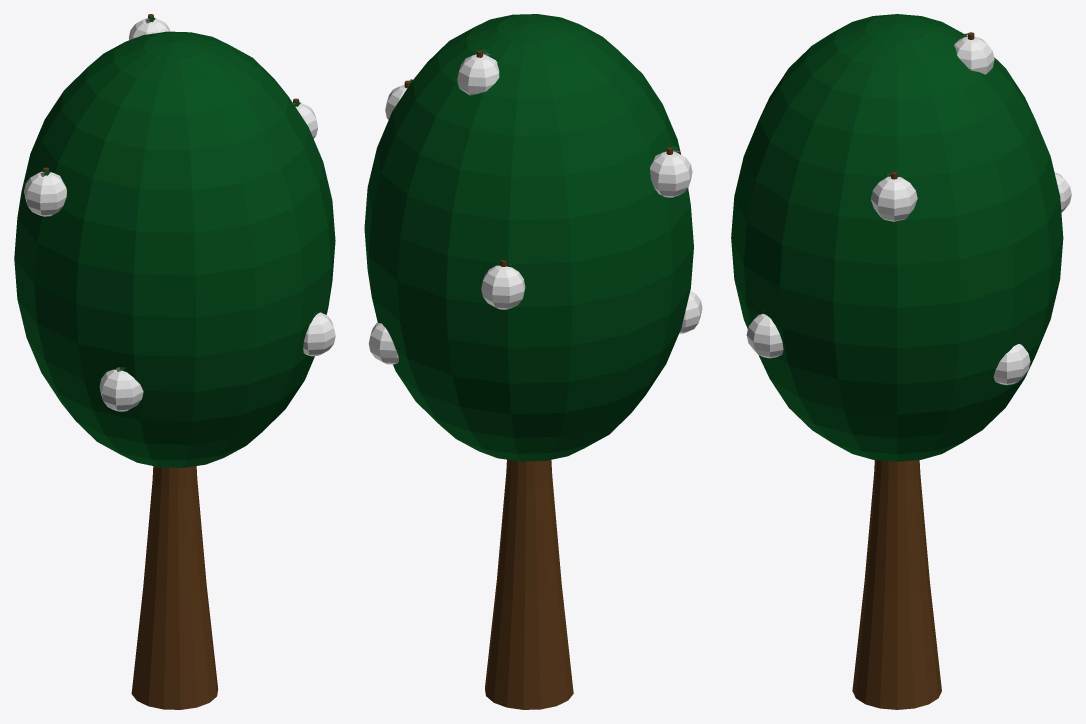
File: AppleTree.fbx
3 views of the same model, side by side, from view 1: azimuth 30°, elevation 25°; view 2: azimuth 150°, elevation 25°; view 3: azimuth 270°, elevation 25° (orthographic). The views are drawn at different scales.
Visible parts, largest first — view 1: UpperTree, Stump; view 2: UpperTree, Stump; view 3: UpperTree, Stump.
Part boxes in pixels (bbox=[...]): UpperTree: bbox=[14, 14, 335, 637]; Stump: bbox=[131, 622, 218, 709]; UpperTree: bbox=[364, 14, 702, 635]; Stump: bbox=[485, 619, 573, 709]; UpperTree: bbox=[731, 14, 1071, 635]; Stump: bbox=[852, 620, 941, 709].
Size of the model in its own units: 1.47 by 3.11 by 1.44.
2 materials, 1 textured.
